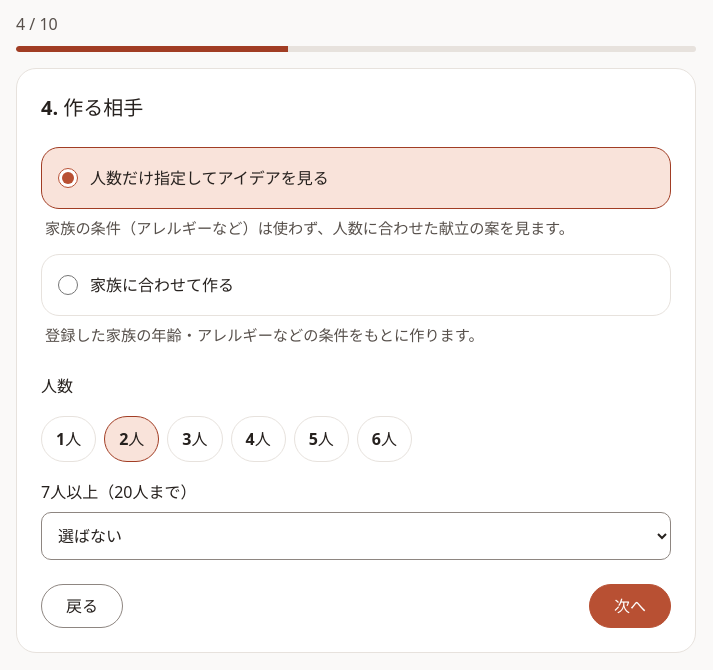
Test: PlannerWizard optional condition steps › moves from audience to the time limit step for idea
What coordinates should you click on to do the following:
click the button "次へ"
I would click on:
 (630, 606)
Its box is x1=589 y1=584 x2=671 y2=628.
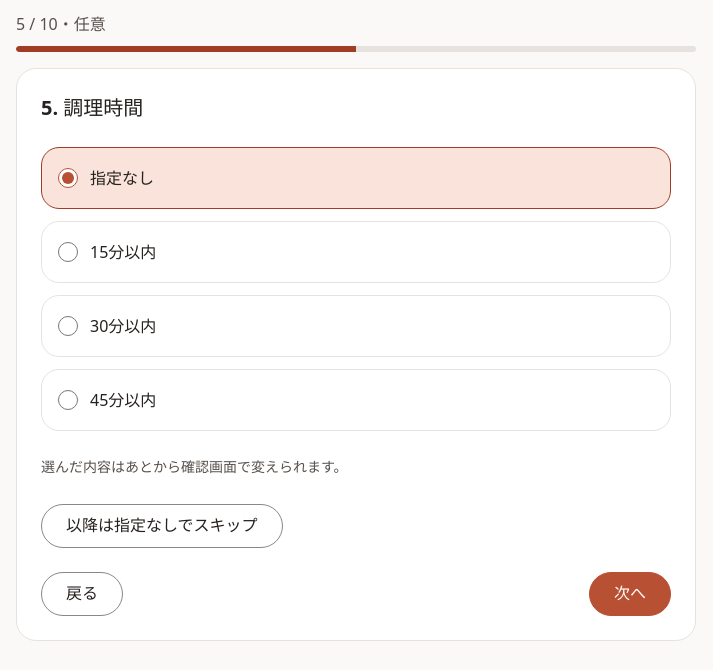
Check: the heading "5. 調理時間" is shown, box x1=41 y1=94 x2=143 y2=121
